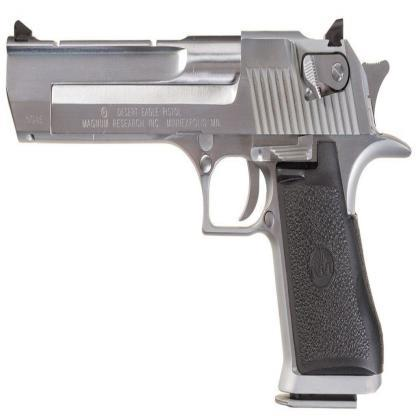Pistol: (6, 17, 412, 406)
